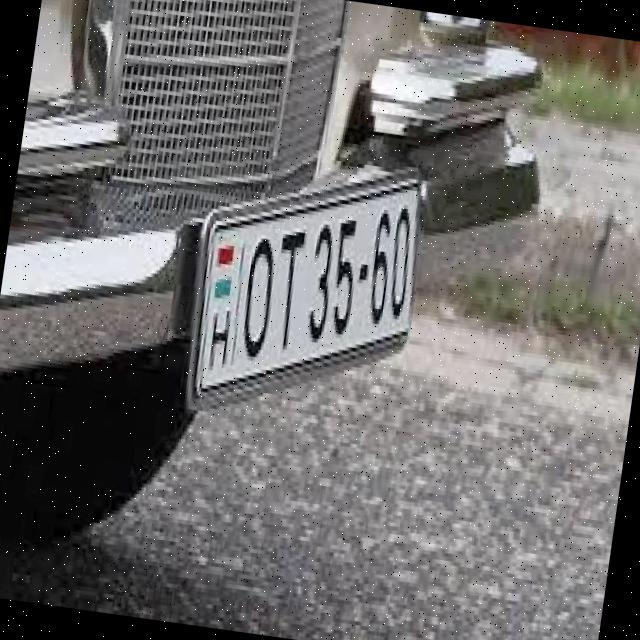licence: (188, 151, 434, 438)
